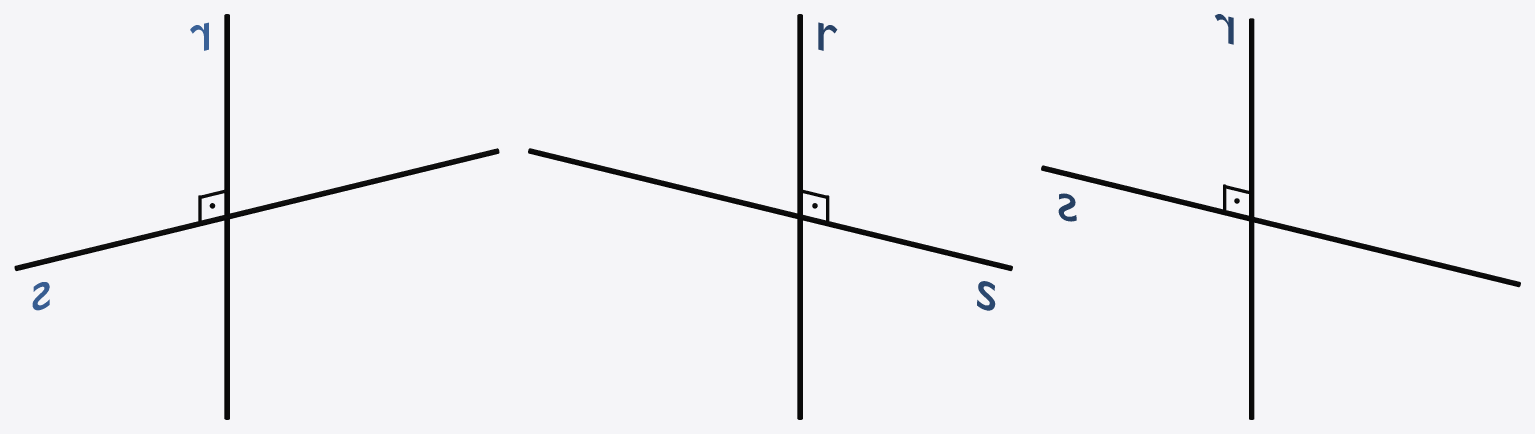
The model's file is ob1.3_retas_perpendiculares.wrl.glb.
The picture shows the model from 3 angles, left to right: view 1: azimuth 30°, elevation 25°; view 2: azimuth 150°, elevation 25°; view 3: azimuth 330°, elevation 25°; orthographic projection.
Visible parts, largest first — view 1: Cylinder-reta-C_Cylinder; view 2: Cylinder-reta-C_Cylinder; view 3: Cylinder-reta-C_Cylinder.
Part boxes in pixels (<box>): Cylinder-reta-C_Cylinder: <box>14,14,499,419</box>; Cylinder-reta-C_Cylinder: <box>528,14,1012,419</box>; Cylinder-reta-C_Cylinder: <box>1041,18,1520,419</box>.
Bounding box in the file's own units: 1 × 0.8 × 0.0104.
